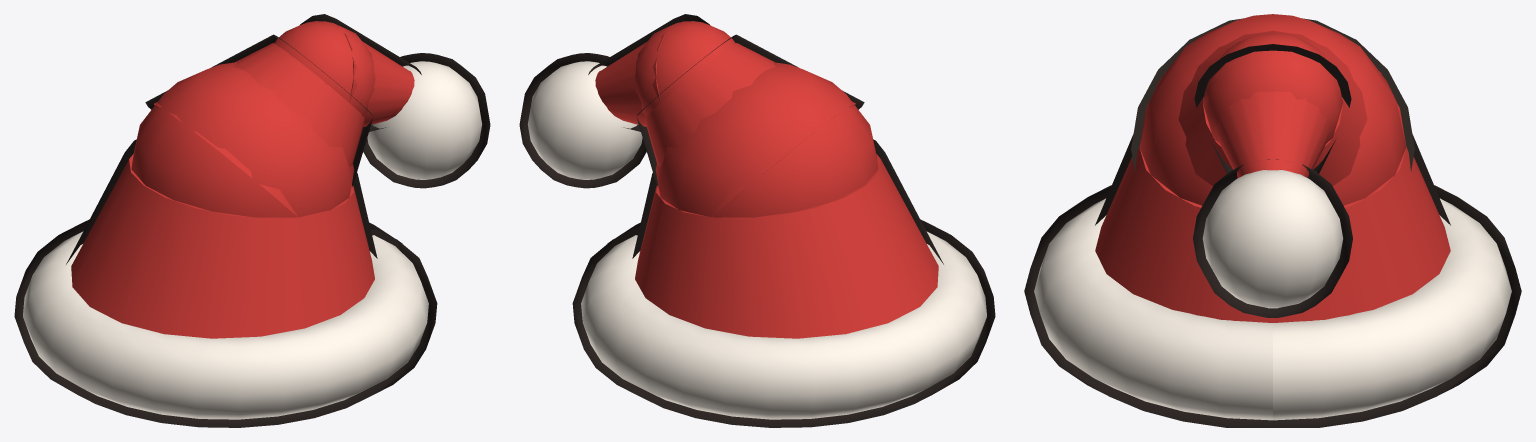
The model's file is hat_santa.fbx.
The picture shows the model from 3 angles, left to right: view 1: azimuth 30°, elevation 25°; view 2: azimuth 150°, elevation 25°; view 3: azimuth 270°, elevation 25°; orthographic projection. The views are drawn at different scales.
Parts seen in each view (by area): view 1: hat_santa_C_D93B36, hat_santa_C_FFF6EA, hat_santa_Outline; view 2: hat_santa_C_D93B36, hat_santa_C_FFF6EA, hat_santa_Outline; view 3: hat_santa_C_FFF6EA, hat_santa_C_D93B36, hat_santa_Outline.
Boxes of the visible parts, <box> form: hat_santa_C_D93B36: <box>71,21,414,338</box>; hat_santa_C_FFF6EA: <box>23,61,482,419</box>; hat_santa_Outline: <box>14,14,490,427</box>; hat_santa_C_D93B36: <box>595,21,938,338</box>; hat_santa_C_FFF6EA: <box>527,61,986,419</box>; hat_santa_Outline: <box>519,14,995,427</box>; hat_santa_C_FFF6EA: <box>1034,170,1511,420</box>; hat_santa_C_D93B36: <box>1095,14,1450,322</box>; hat_santa_Outline: <box>1024,18,1521,427</box>.
Bounding box in the file's own units: 0.8451 × 0.5673 × 0.708.
